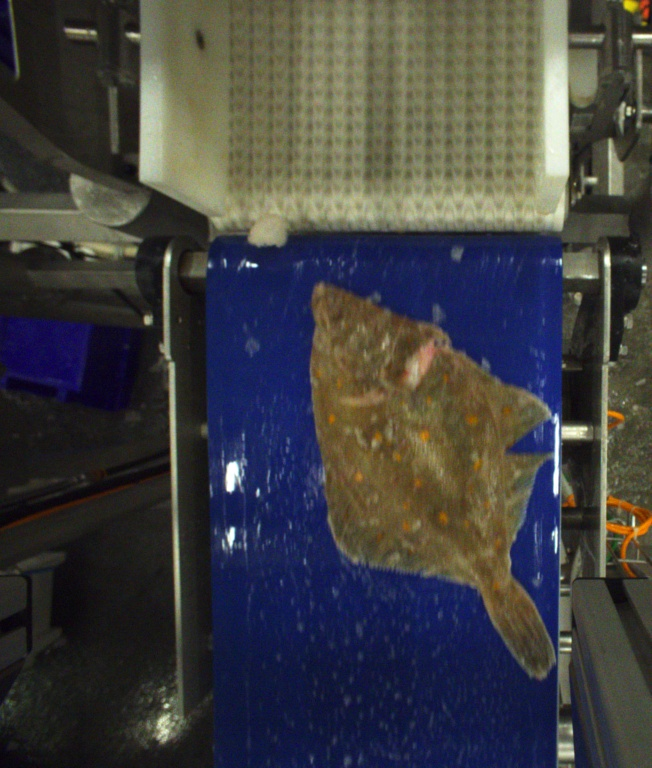PLE: (309, 283, 557, 683)
